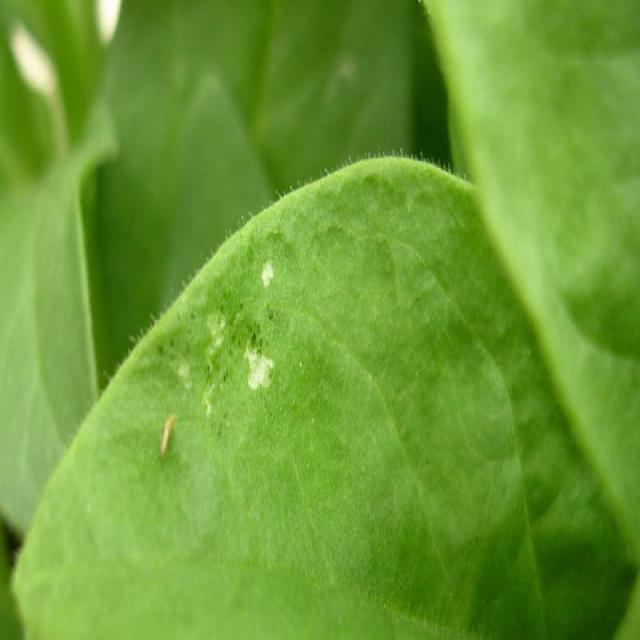Thrip-Larva-: (154, 407, 180, 454)
